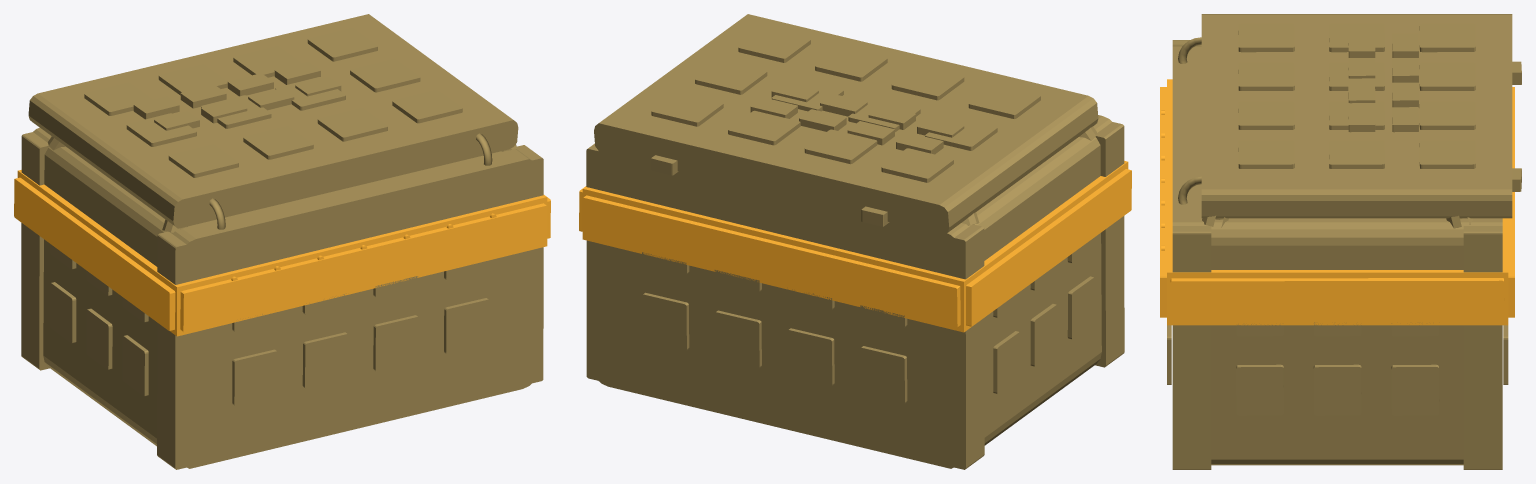
The model's file is ammo_pickup.glb.
3 views of the same model, side by side, from view 1: azimuth 30°, elevation 25°; view 2: azimuth 150°, elevation 25°; view 3: azimuth 270°, elevation 25° (orthographic). The views are drawn at different scales.
Parts seen in each view (by area): view 1: ammo_pickup__ammo_pickup, ammo_pickup__band; view 2: ammo_pickup__ammo_pickup, ammo_pickup__band; view 3: ammo_pickup__ammo_pickup, ammo_pickup__band.
Part boxes in pixels (<box>): ammo_pickup__ammo_pickup: <box>21,14,543,469</box>; ammo_pickup__band: <box>14,170,550,336</box>; ammo_pickup__ammo_pickup: <box>586,14,1124,469</box>; ammo_pickup__band: <box>579,161,1131,332</box>; ammo_pickup__ammo_pickup: <box>1167,14,1521,469</box>; ammo_pickup__band: <box>1160,79,1514,325</box>.
Size of the model in its own units: 0.486 by 0.326 by 0.373.
